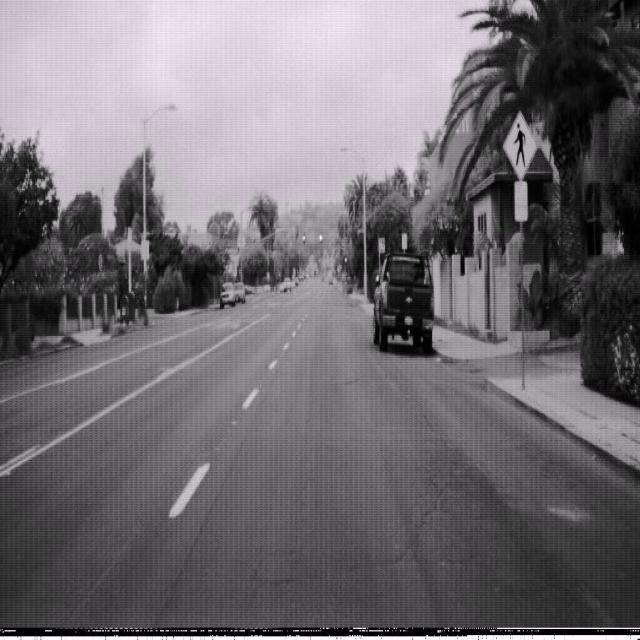pedestrianCrossing: (502, 109, 538, 180)
